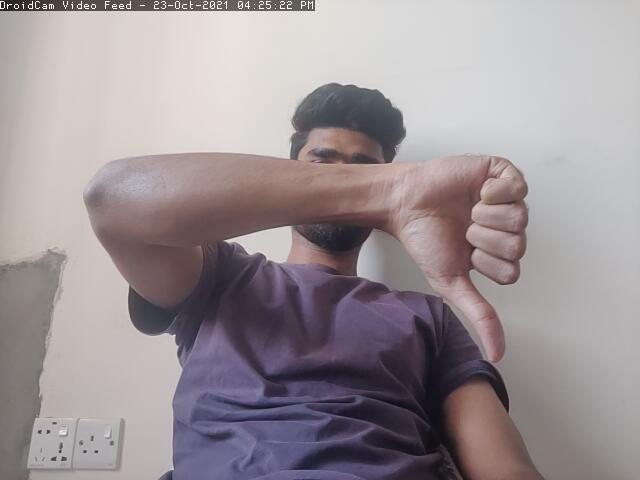ThumbsDown: (390, 151, 532, 364)
